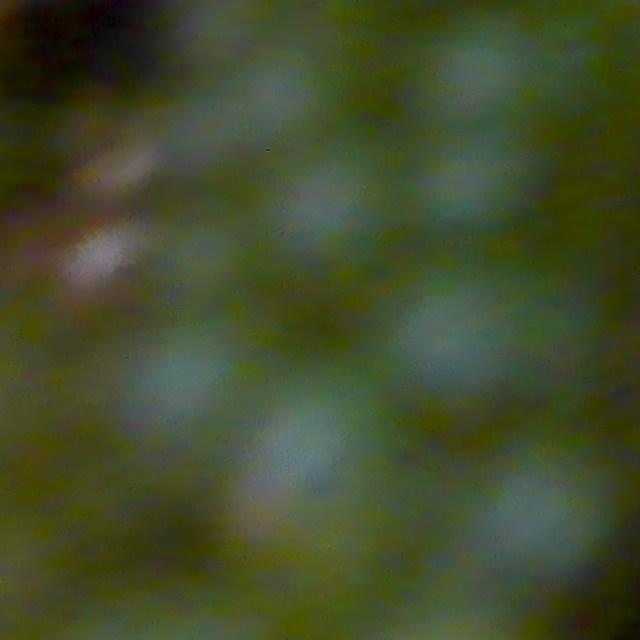SeaGrape: (211, 392, 410, 586), (376, 253, 538, 422), (415, 7, 595, 142), (263, 137, 406, 291), (480, 436, 619, 591), (411, 130, 561, 242), (418, 3, 540, 125)
